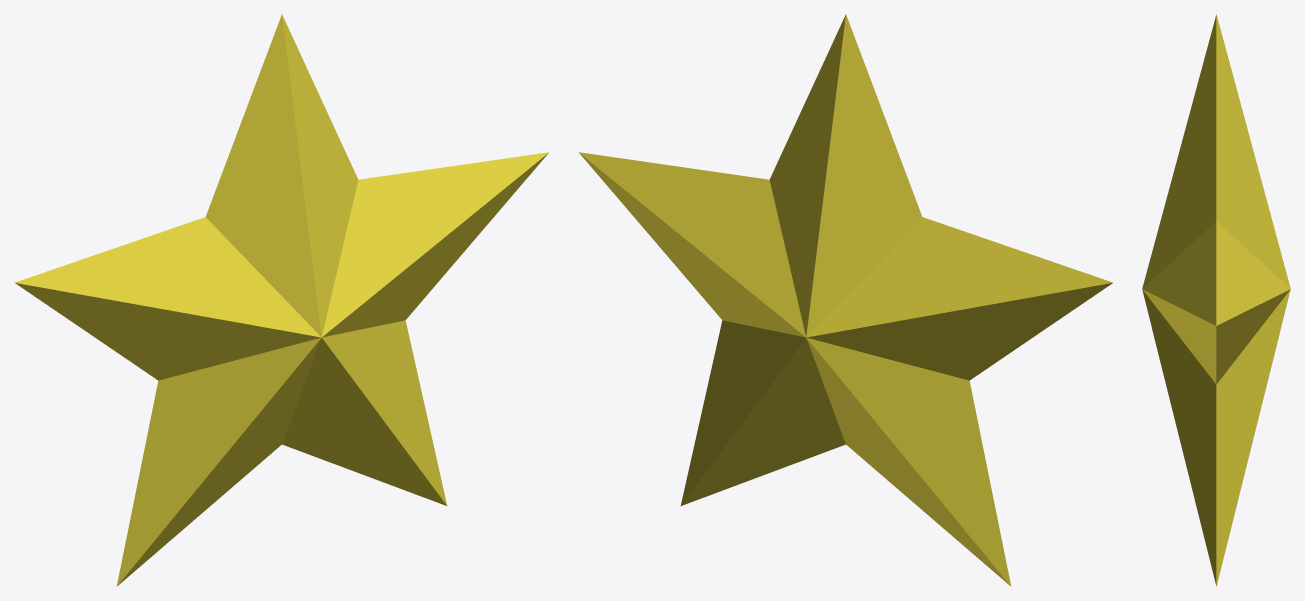
Rendered from star.glb.
The picture shows the model from 3 angles, left to right: view 1: azimuth 30°, elevation 25°; view 2: azimuth 150°, elevation 25°; view 3: azimuth 270°, elevation 25°; orthographic projection. The views are drawn at different scales.
Visible parts, largest first — view 1: Circle; view 2: Circle; view 3: Circle.
Boxes of the visible parts, <box> form: Circle: <box>15,14,548,586</box>; Circle: <box>579,14,1112,586</box>; Circle: <box>1142,14,1290,586</box>.
Bounding box in the file's own units: 1.9 × 1.81 × 0.4899.
